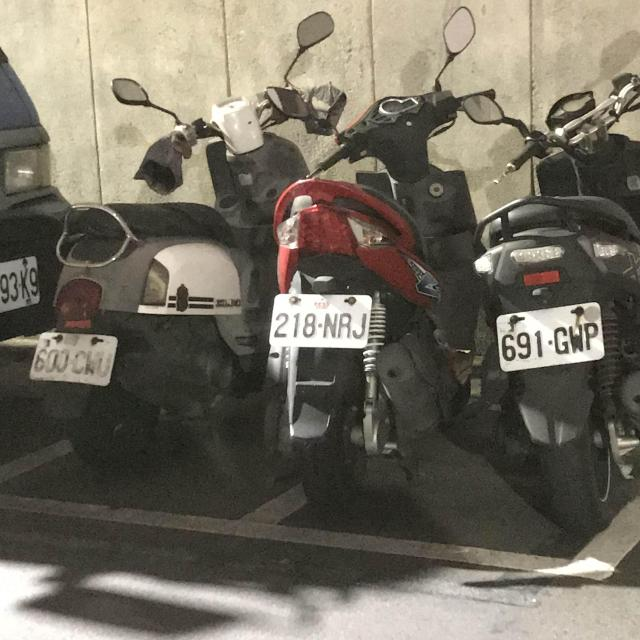W: (491, 297, 609, 374), (268, 287, 374, 352), (26, 324, 124, 390), (0, 240, 53, 322)
